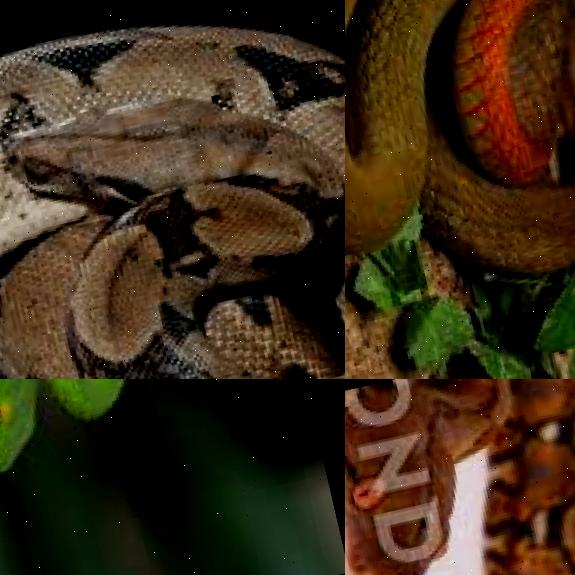snake: (0, 0, 345, 379), (345, 0, 575, 347), (345, 379, 575, 575), (0, 379, 246, 490)
